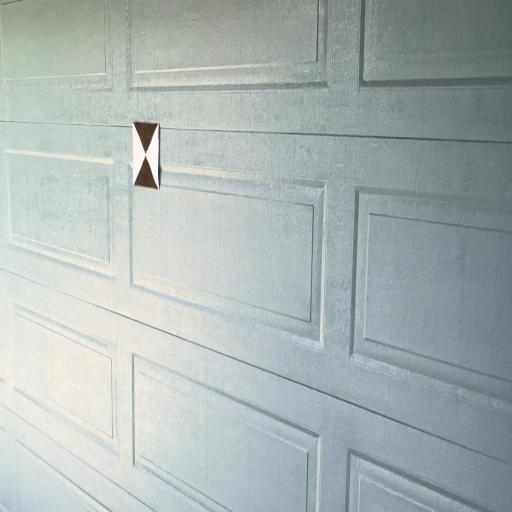target: (133, 122, 160, 190)
